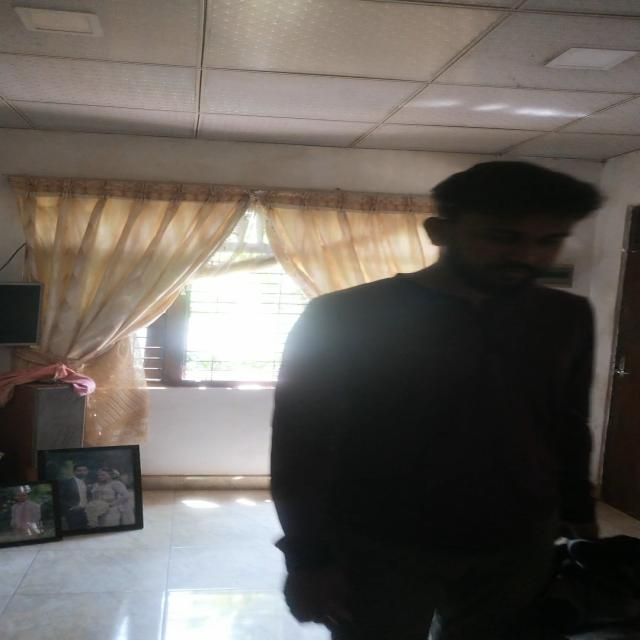Person: (260, 161, 620, 640)
